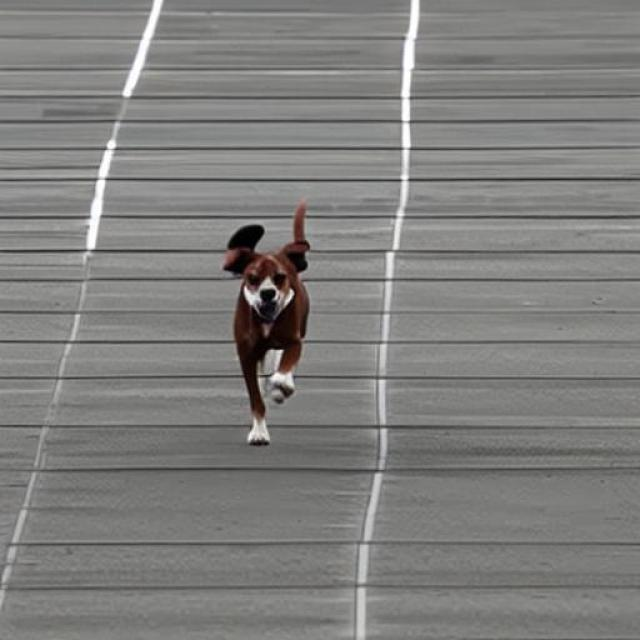Dog: (222, 203, 310, 446)
